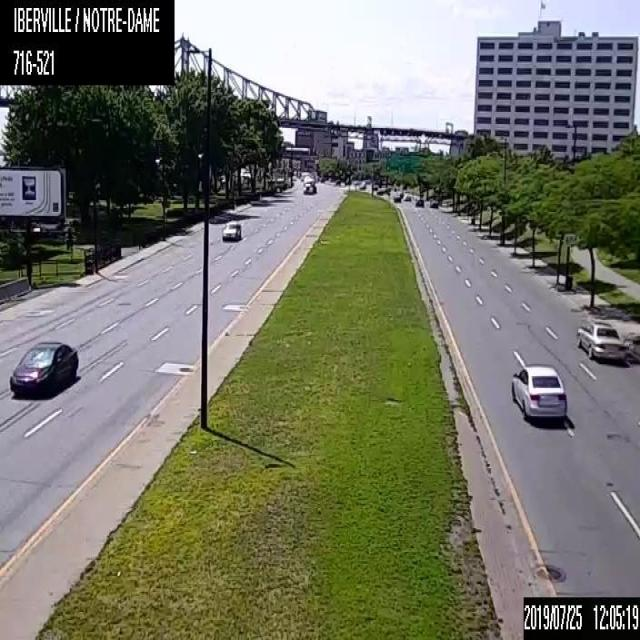vehicle: (8, 338, 78, 398), (509, 361, 566, 420), (574, 318, 629, 363), (221, 220, 240, 241), (302, 176, 315, 193), (403, 192, 412, 201), (429, 197, 437, 207), (414, 198, 424, 205), (393, 192, 400, 201)
